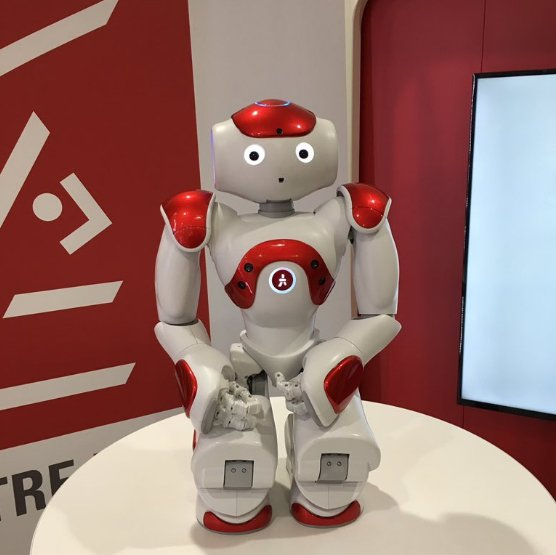nao: (142, 90, 411, 533)
